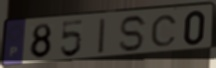0: (182, 9, 208, 47)
5: (59, 18, 84, 59)
8: (27, 22, 53, 61)
C: (150, 14, 179, 48)
I: (97, 17, 107, 56)
S: (118, 14, 149, 54)
